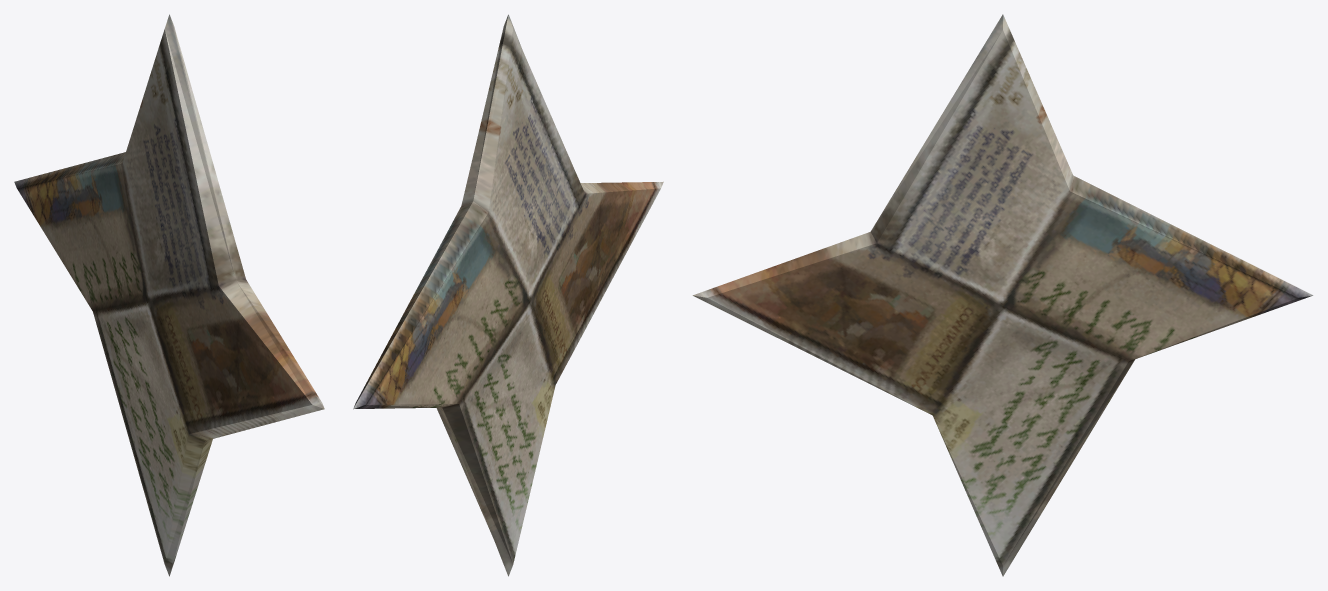
The model's file is Cat_paperShuriken.obj.
3 views of the same model, side by side, from view 1: azimuth 30°, elevation 25°; view 2: azimuth 150°, elevation 25°; view 3: azimuth 270°, elevation 25° (orthographic).
Parts seen in each view (by area): view 1: Cat_paperShuriken_tri; view 2: Cat_paperShuriken_tri; view 3: Cat_paperShuriken_tri.
Boxes of the visible parts, left/top/right/bottom form: Cat_paperShuriken_tri: left=14, top=14, right=324, bottom=576; Cat_paperShuriken_tri: left=353, top=14, right=663, bottom=576; Cat_paperShuriken_tri: left=692, top=14, right=1313, bottom=576.
Bounding box in the file's own units: 0.0317 × 0.3961 × 0.3961.
1 material, 1 textured.
